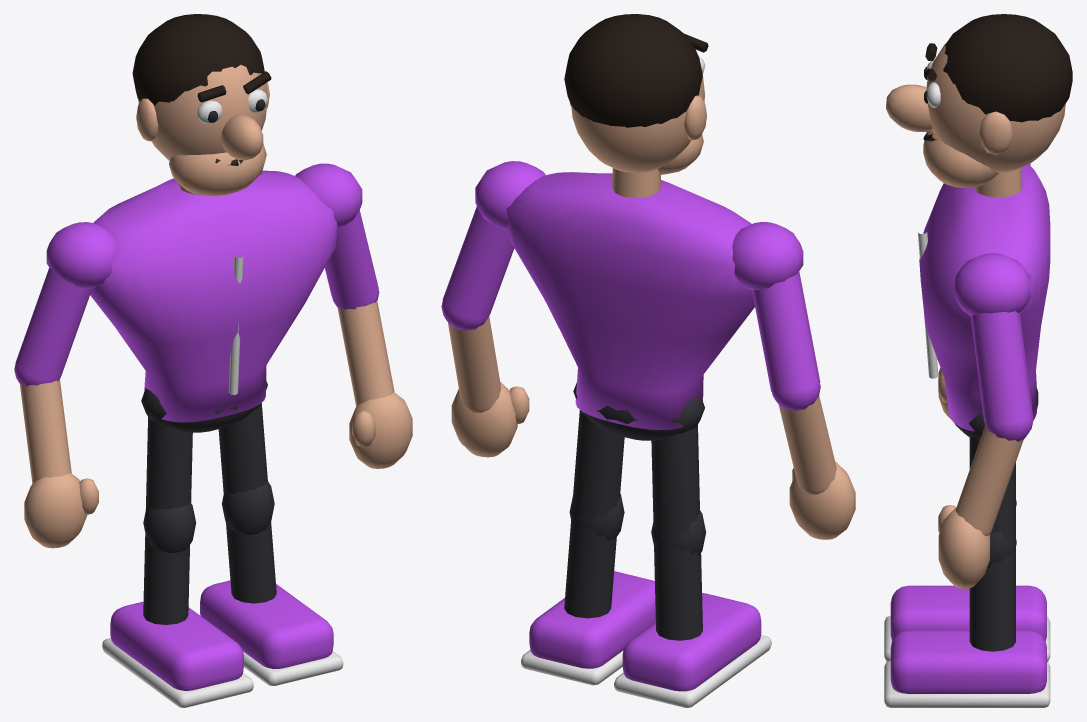
The model's file is club_character.glb.
The picture shows the model from 3 angles, left to right: view 1: azimuth 30°, elevation 25°; view 2: azimuth 150°, elevation 25°; view 3: azimuth 270°, elevation 25°; orthographic projection. The views are drawn at different scales.
Parts seen in each view (by area): view 1: CHAR_Accent, CHAR_Skin1, CHAR_Cloth, CHAR_HairDark, CHAR_White; view 2: CHAR_Accent, CHAR_Cloth, CHAR_Skin1, CHAR_HairDark, CHAR_White; view 3: CHAR_Accent, CHAR_Skin1, CHAR_HairDark, CHAR_Cloth, CHAR_White.
Part boxes in pixels (<box>): CHAR_Accent: <box>14,163,379,690</box>; CHAR_Skin1: <box>20,65,412,548</box>; CHAR_Cloth: <box>141,381,276,624</box>; CHAR_HairDark: <box>132,14,271,105</box>; CHAR_White: <box>102,89,343,707</box>; CHAR_Accent: <box>441,161,820,691</box>; CHAR_Cloth: <box>564,382,706,640</box>; CHAR_Skin1: <box>448,70,855,539</box>; CHAR_HairDark: <box>564,14,708,127</box>; CHAR_White: <box>521,55,771,707</box>; CHAR_Accent: <box>890,163,1050,693</box>; CHAR_Skin1: <box>886,42,1065,588</box>; CHAR_HairDark: <box>925,14,1072,122</box>; CHAR_Cloth: <box>947,387,1038,651</box>; CHAR_White: <box>884,59,1050,707</box>.
Bounding box in the file's own units: 0.5682 × 0.8929 × 0.236.
